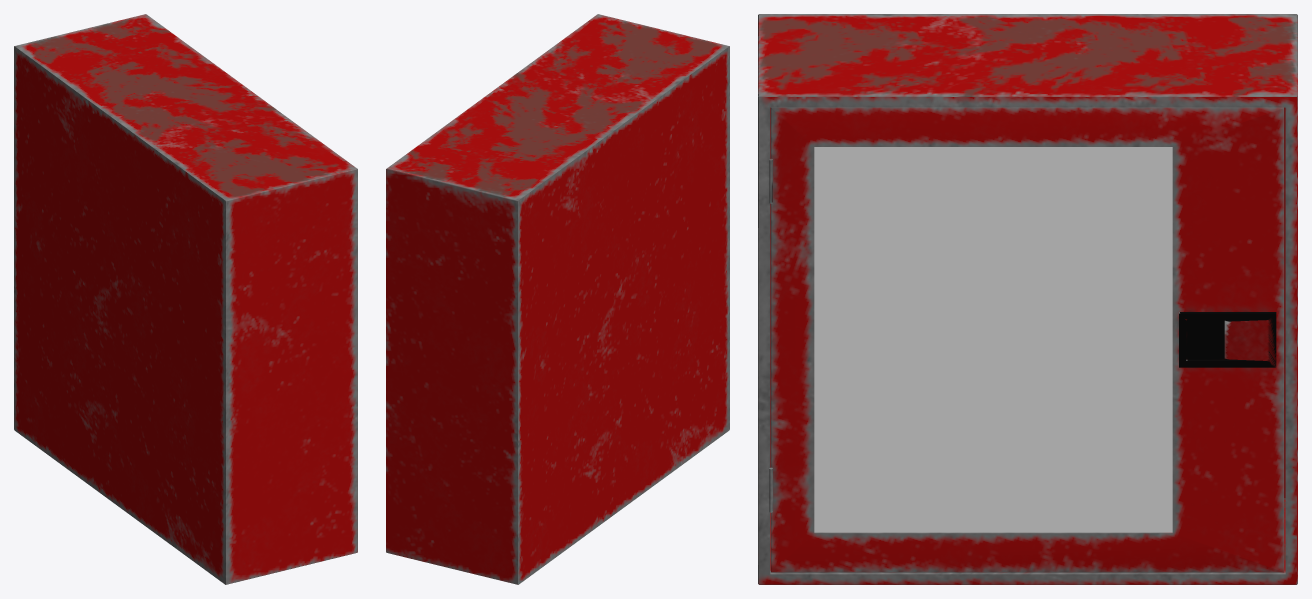
File: FireHoseCabinet.fbx
The picture shows the model from 3 angles, left to right: view 1: azimuth 30°, elevation 25°; view 2: azimuth 150°, elevation 25°; view 3: azimuth 270°, elevation 25°; orthographic projection. The views are drawn at different scales.
Visible parts, largest first — view 1: Cabinet; view 2: Cabinet; view 3: Cristal, Door, Cabinet, Handle_Door.
Part boxes in pixels (bbox=[...]): Cabinet: bbox=[14, 14, 357, 584]; Cabinet: bbox=[386, 14, 729, 584]; Cristal: bbox=[814, 147, 1172, 532]; Door: bbox=[771, 107, 1283, 572]; Cabinet: bbox=[758, 14, 1297, 584]; Handle_Door: bbox=[1179, 312, 1276, 367].
Bounding box in the file's own units: 4.09 × 11.21 × 11.21.
